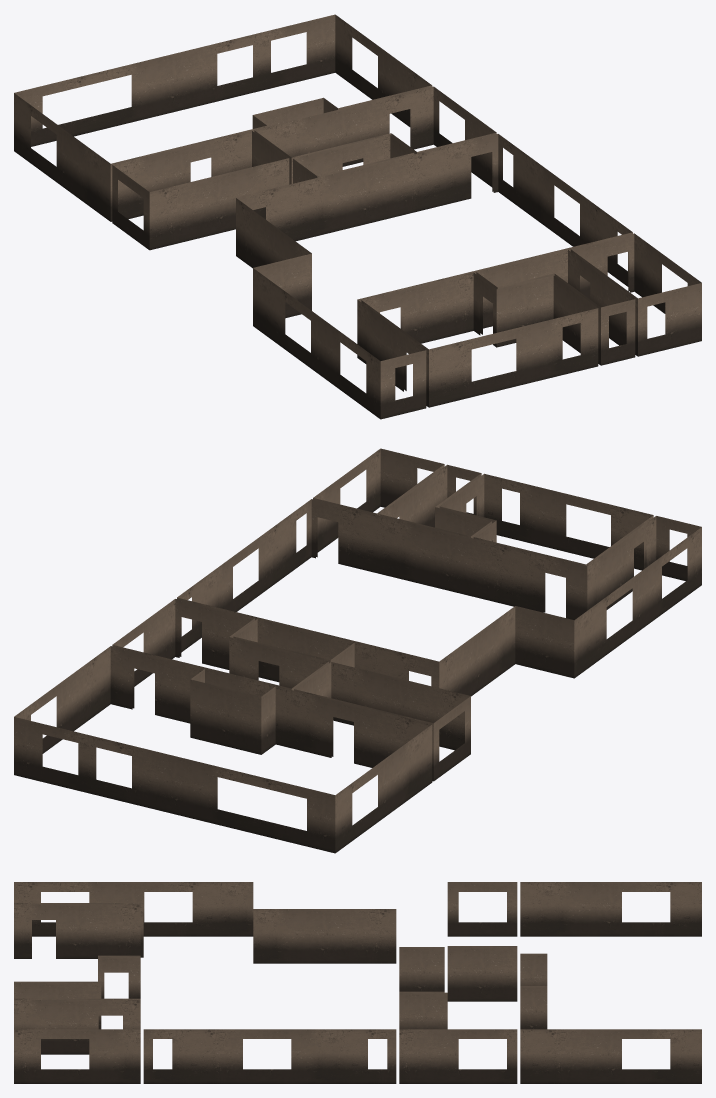
File: A2_H2_Walls.FBX
The picture shows the model from 3 angles, top to bottom: view 1: azimuth 30°, elevation 25°; view 2: azimuth 150°, elevation 25°; view 3: azimuth 270°, elevation 25°; orthographic projection. The views are drawn at different scales.
Visible parts, largest first — view 1: A2_H2_Walls; view 2: A2_H2_Walls; view 3: A2_H2_Walls.
Boxes of the visible parts, box(x1,y1,x2,y2) form: A2_H2_Walls: box(14, 14, 701, 419); A2_H2_Walls: box(14, 448, 701, 853); A2_H2_Walls: box(14, 882, 701, 1083).
Size of the model in its own units: 1800 by 312 by 3556.
